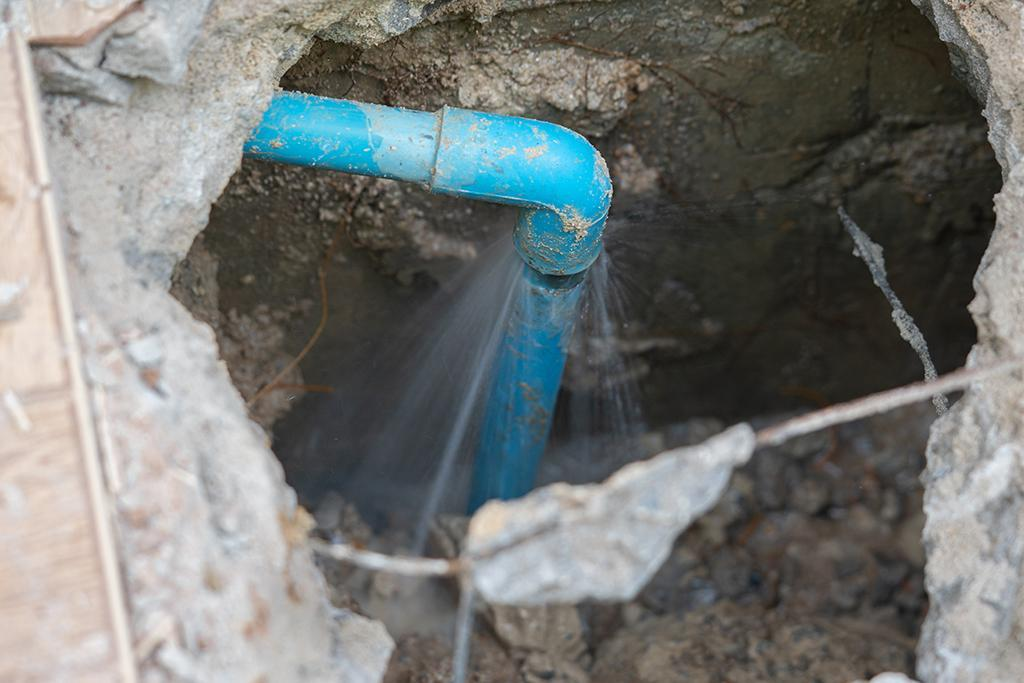pipe burst: (288, 215, 618, 542)
